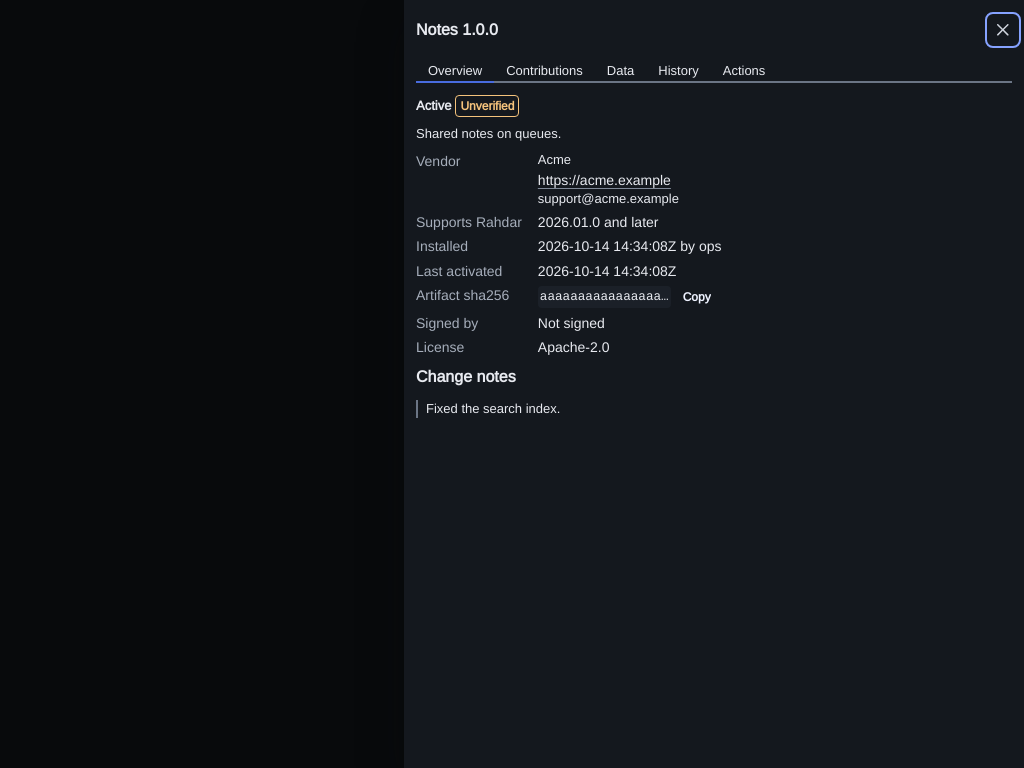
PluginDrawer: history › lists what was done, by whom, and how it went, with the error of a failure
The width and height of the screenshot is (1024, 768).
Click the tab "History".
click(679, 72)  # box [646,60,711,83]
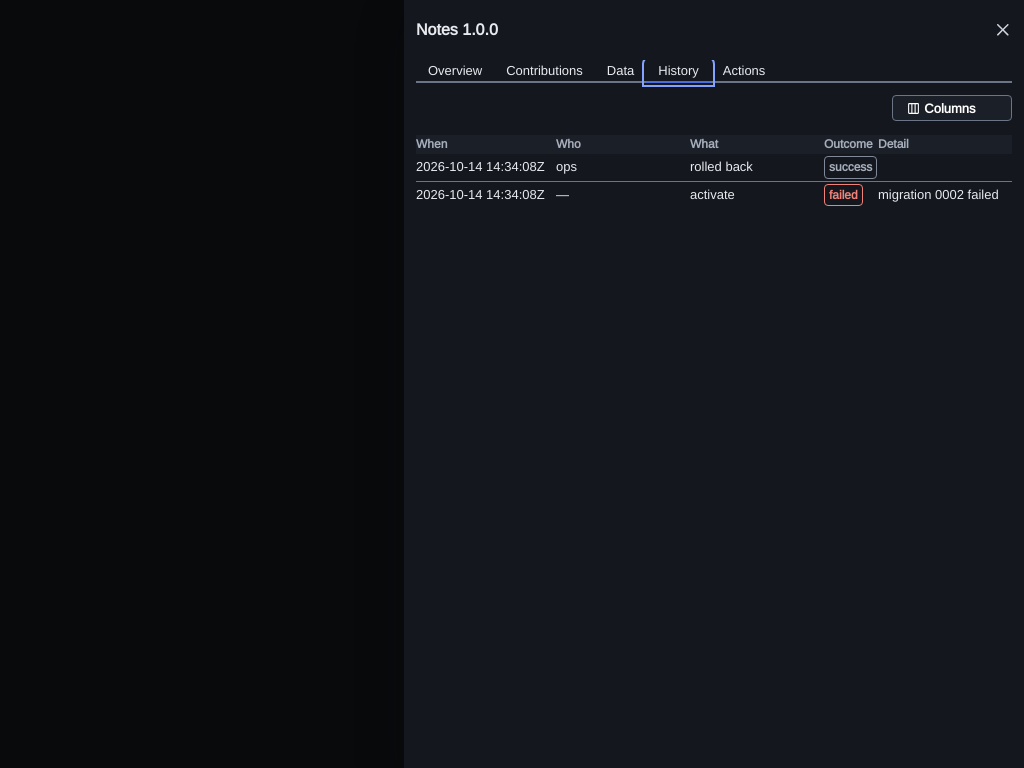
Now the text "success" is shown, box [824,156,877,179]
Now the text "—" is shown, box [556,186,569,203]
Now the text "failed" is shown, box [824,184,863,206]
